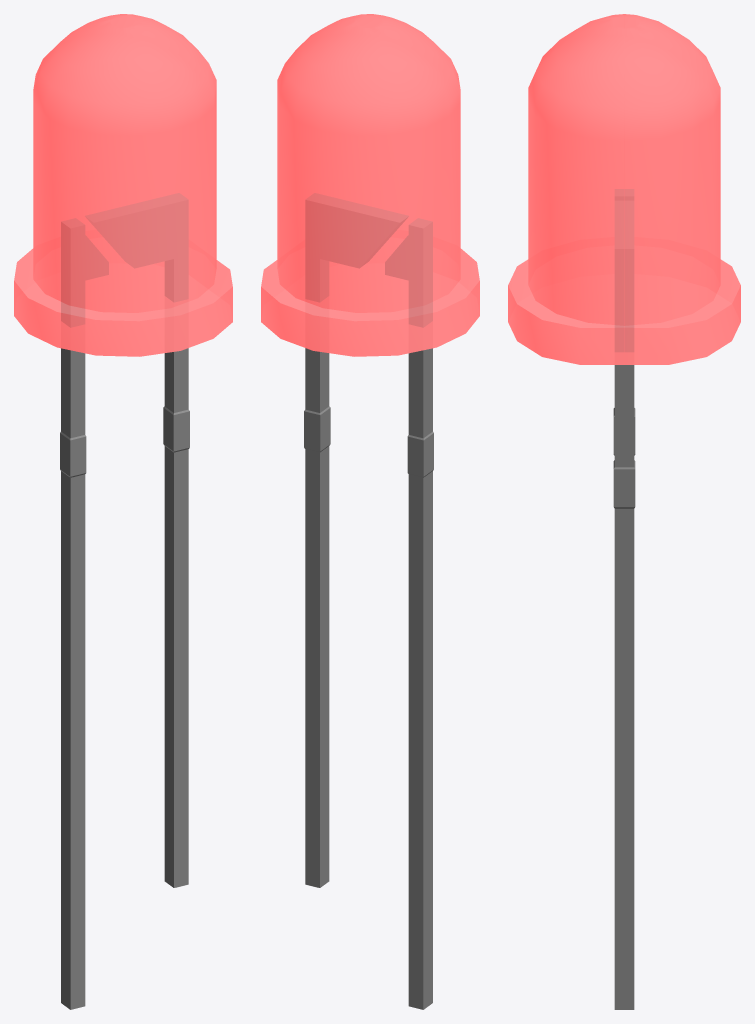
Rendered from led.gltf.
3 renders of one model, left to right at view 1: azimuth 30°, elevation 25°; view 2: azimuth 150°, elevation 25°; view 3: azimuth 270°, elevation 25°, orthographic. The views are drawn at different scales.
Visible parts, largest first — view 1: Cylinder; view 2: Cylinder; view 3: Cylinder.
Boxes of the visible parts, left/top/right/bottom form: Cylinder: left=14, top=14, right=232, bottom=1009; Cylinder: left=261, top=14, right=479, bottom=1009; Cylinder: left=508, top=14, right=740, bottom=1009.
Size of the model in its own units: 2.26 by 11.59 by 2.42.
